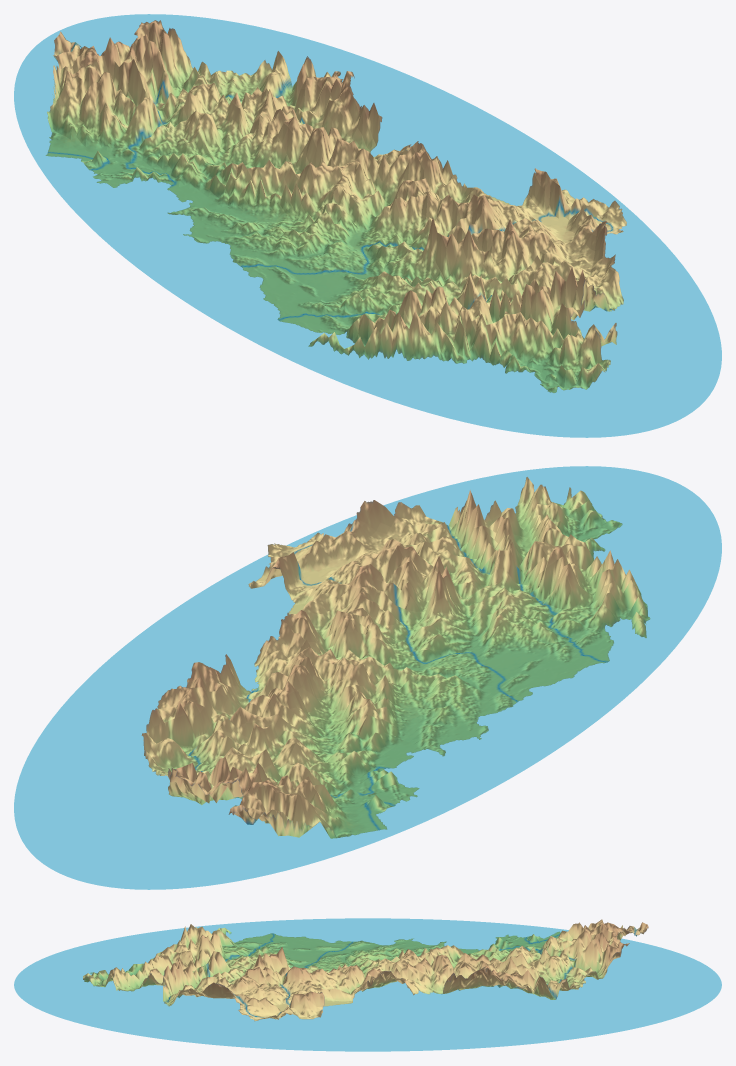
The model's file is ALB-terrain.glb.
The picture shows the model from 3 angles, top to bottom: view 1: azimuth 30°, elevation 25°; view 2: azimuth 150°, elevation 25°; view 3: azimuth 270°, elevation 25°; orthographic projection. The views are drawn at different scales.
Visible parts, largest first — view 1: Relevo com hidrografia; view 2: Relevo com hidrografia; view 3: Relevo com hidrografia.
Boxes of the visible parts, x1=… form: Relevo com hidrografia: x1=14, y1=14, x2=721, y2=437; Relevo com hidrografia: x1=14, y1=466, x2=721, y2=889; Relevo com hidrografia: x1=14, y1=918, x2=721, y2=1051.
Size of the model in its own units: 0.8963 by 0.1335 by 2.01.
2 materials, 1 textured.
